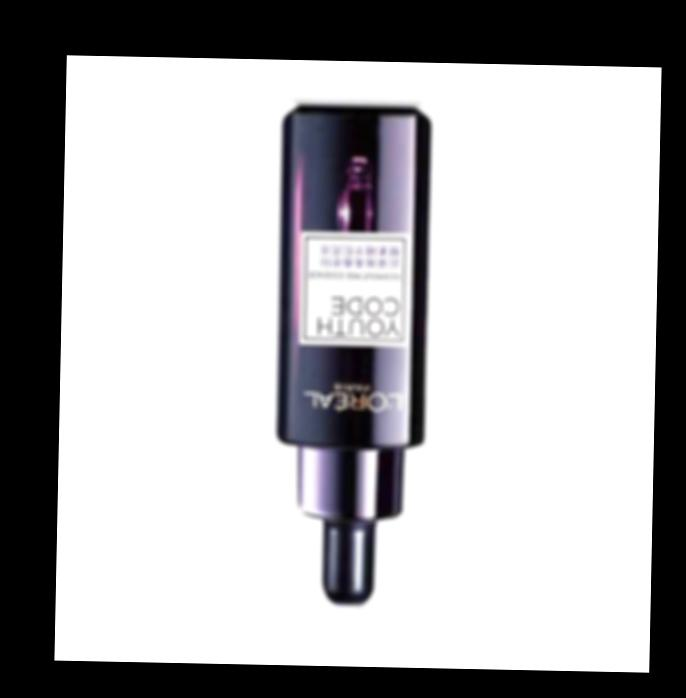cosmetic: (275, 105, 429, 607)
